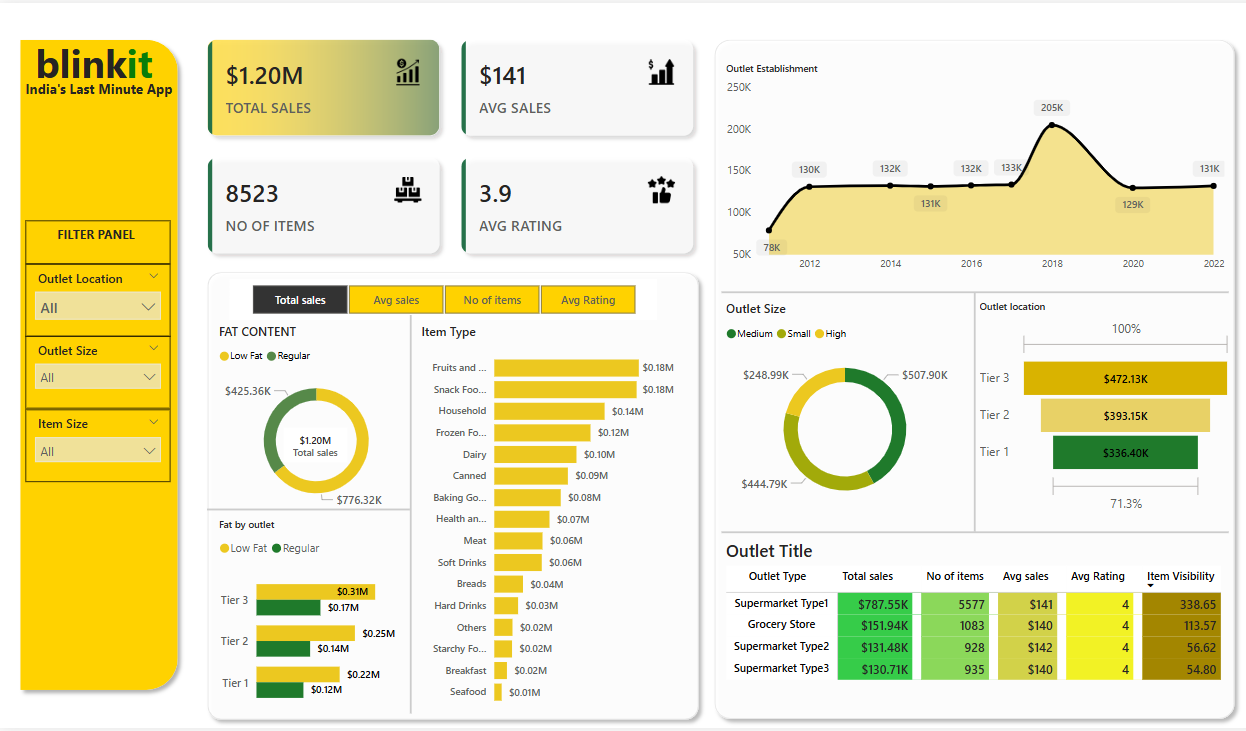

This screenshot's page, from the dashboard's own definition file:
{"tool":"powerbi","page":{"name":"Page 1","canvas":[1400,800],"ordinal":0},"visuals":[{"type":"shape","box":[16,32,192,736],"z":0},{"type":"textbox","box":[24,32,168,72],"z":1000},{"type":"textbox","box":[16,80,192,48],"z":2000},{"type":"cardVisual","fields":{"Data":["BlinkIT Grocery Data.Total sales","BlinkIT Grocery Data.Avg sales","BlinkIT Grocery Data.No of items","BlinkIT Grocery Data.Avg Rating"]},"box":[216,24,570,270],"z":3000},{"type":"shape","box":[224,288,560,512],"z":4000},{"type":"donutChart","title":"FAT CONTENT","fields":{"Y":["BlinkIT Grocery Data.Total sales"],"Category":["BlinkIT Grocery Data.Item Fat Content"]},"box":[240,352,224,216],"z":5000},{"type":"slicer","fields":{"Values":["metrix.metrix"]},"box":[256,304,472,45],"z":6000},{"type":"cardVisual","fields":{"Data":["BlinkIT Grocery Data.Total sales"]},"box":[312,464,80,48],"z":7000},{"type":"clusteredBarChart","title":"Fat by outlet","fields":{"Y":["BlinkIT Grocery Data.Total sales"],"Category":["BlinkIT Grocery Data.Outlet Location Type"],"Series":["BlinkIT Grocery Data.Item Fat Content"]},"box":[240,568,224,224],"z":8000},{"type":"shape","box":[232,544,224,32],"z":9000},{"type":"shape","box":[448,344,16,440],"z":10000},{"type":"clusteredBarChart","title":"Item Type","fields":{"Y":["BlinkIT Grocery Data.Total sales"],"Category":["BlinkIT Grocery Data.Item Type"]},"box":[464,352,288,432],"z":11000},{"type":"shape","box":[784,32,592,768],"z":12000},{"type":"lineChart","title":"Outlet Establishment","fields":{"Category":["BlinkIT Grocery Data.Outlet Establishment Year"],"Y":["Sum(BlinkIT Grocery Data.Sales)"]},"box":[800,64,560,240],"z":13000},{"type":"shape","box":[800,312,560,16],"z":14000},{"type":"donutChart","title":"Outlet Size","fields":{"Category":["BlinkIT Grocery Data.Outlet Size"],"Y":["BlinkIT Grocery Data.Total sales"]},"box":[800,328,272,240],"z":15000},{"type":"shape","box":[1072,320,16,264],"z":16000},{"type":"funnel","title":"Outlet location","fields":{"Category":["BlinkIT Grocery Data.Outlet Location Type"],"Y":["BlinkIT Grocery Data.Total sales"]},"box":[1080,328,288,240],"z":17000},{"type":"shape","box":[800,576,560,16],"z":18000},{"type":"pivotTable","title":"Outlet Title","fields":{"Rows":["BlinkIT Grocery Data.Outlet Type"],"Values":["BlinkIT Grocery Data.Total sales","BlinkIT Grocery Data.No of items","BlinkIT Grocery Data.Avg sales","BlinkIT Grocery Data.Avg Rating","Sum(BlinkIT Grocery Data.Item Visibility)"]},"box":[800,592,560,176],"z":19000},{"type":"textbox","box":[32,240,160,48],"z":20000},{"type":"slicer","fields":{"Values":["BlinkIT Grocery Data.Outlet Location Type"]},"box":[32,288,160,80],"z":21000},{"type":"slicer","fields":{"Values":["BlinkIT Grocery Data.Outlet Size"]},"box":[32,368,160,80],"z":22000},{"type":"slicer","fields":{"Values":["BlinkIT Grocery Data.Item Type"]},"box":[32,448,160,80],"z":23000}]}

Visuals, with their boxes in screenshot pixels (x1, y1, x2, y2), scaled from the page's 1400x800 canvas onto the 1246x731 screenshot:
shape: bbox=(14, 29, 185, 702)
textbox: bbox=(21, 29, 171, 95)
textbox: bbox=(14, 73, 185, 117)
cardVisual - BlinkIT Grocery Data.Total sales x BlinkIT Grocery Data.Avg sales: bbox=(192, 22, 700, 269)
shape: bbox=(199, 263, 698, 730)
"FAT CONTENT" donutChart: bbox=(214, 322, 413, 519)
slicer - metrix.metrix: bbox=(228, 278, 648, 319)
cardVisual - BlinkIT Grocery Data.Total sales: bbox=(278, 424, 349, 468)
"Fat by outlet" clusteredBarChart: bbox=(214, 519, 413, 724)
shape: bbox=(206, 497, 406, 526)
shape: bbox=(399, 314, 413, 716)
"Item Type" clusteredBarChart: bbox=(413, 322, 669, 716)
shape: bbox=(698, 29, 1225, 730)
"Outlet Establishment" lineChart: bbox=(712, 58, 1210, 278)
shape: bbox=(712, 285, 1210, 300)
"Outlet Size" donutChart: bbox=(712, 300, 954, 519)
shape: bbox=(954, 292, 968, 534)
"Outlet location" funnel: bbox=(961, 300, 1218, 519)
shape: bbox=(712, 526, 1210, 541)
"Outlet Title" pivotTable: bbox=(712, 541, 1210, 702)
textbox: bbox=(28, 219, 171, 263)
slicer - BlinkIT Grocery Data.Outlet Location Type: bbox=(28, 263, 171, 336)
slicer - BlinkIT Grocery Data.Outlet Size: bbox=(28, 336, 171, 409)
slicer - BlinkIT Grocery Data.Item Type: bbox=(28, 409, 171, 482)
